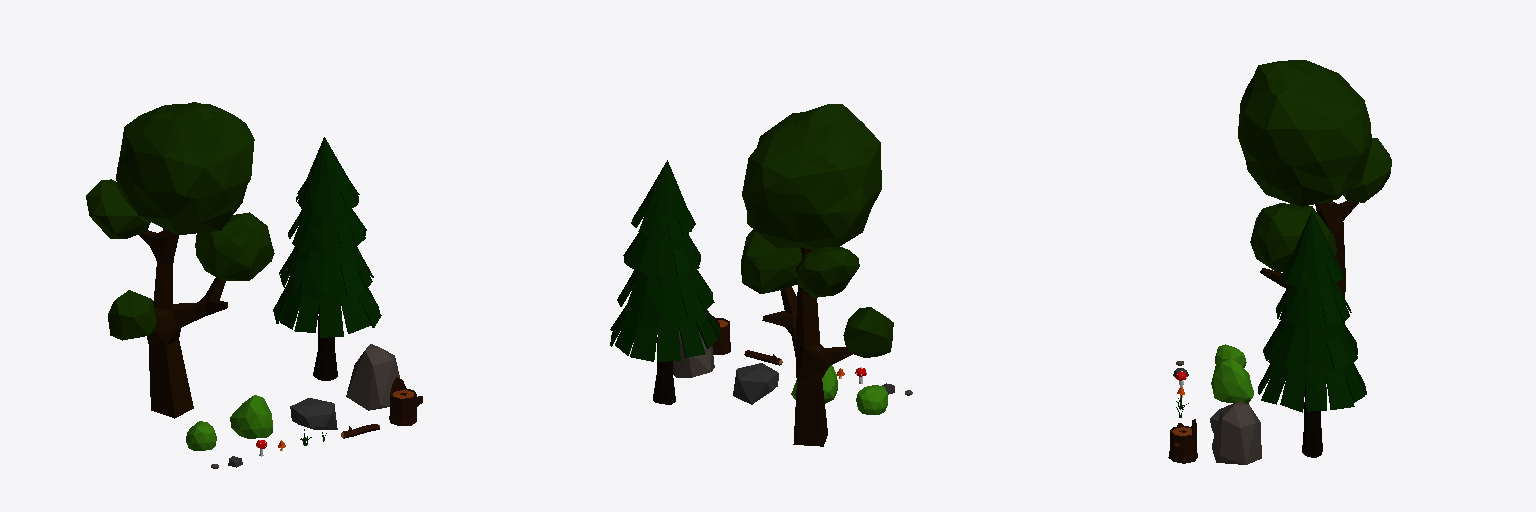
File: NatureFreePack1.obj
3 views of the same model, side by side, from view 1: azimuth 30°, elevation 25°; view 2: azimuth 150°, elevation 25°; view 3: azimuth 270°, elevation 25° (orthographic).
Parts seen in each view (by area): view 1: Tree1 NaturePack, NaturePack Tree2, NaturePack Rock4, NaturePack Bush1, NaturePack Rock1, NaturePack Stump1, NaturePack Bush2; view 2: Tree1 NaturePack, NaturePack Tree2, NaturePack Rock1, NaturePack Rock4, NaturePack Bush2; view 3: Tree1 NaturePack, NaturePack Tree2, NaturePack Rock4, NaturePack Bush1, NaturePack Stump1.
Part boxes in pixels (bbox=[...]): Tree1 NaturePack: bbox=[86, 102, 274, 418]; NaturePack Tree2: bbox=[273, 137, 381, 380]; NaturePack Rock4: bbox=[346, 344, 399, 410]; NaturePack Bush1: bbox=[230, 395, 272, 438]; NaturePack Rock1: bbox=[290, 398, 337, 429]; NaturePack Stump1: bbox=[389, 377, 422, 425]; NaturePack Bush2: bbox=[186, 421, 216, 450]; Tree1 NaturePack: bbox=[741, 104, 893, 446]; NaturePack Tree2: bbox=[610, 160, 720, 404]; NaturePack Rock1: bbox=[733, 363, 778, 404]; NaturePack Rock4: bbox=[673, 331, 714, 377]; NaturePack Bush2: bbox=[856, 385, 887, 414]; Tree1 NaturePack: bbox=[1238, 60, 1391, 383]; NaturePack Tree2: bbox=[1258, 211, 1366, 457]; NaturePack Rock4: bbox=[1212, 401, 1261, 464]; NaturePack Bush1: bbox=[1211, 358, 1253, 403]; NaturePack Stump1: bbox=[1168, 419, 1197, 463].
Size of the model in its own units: 18.92 by 22.24 by 13.63.